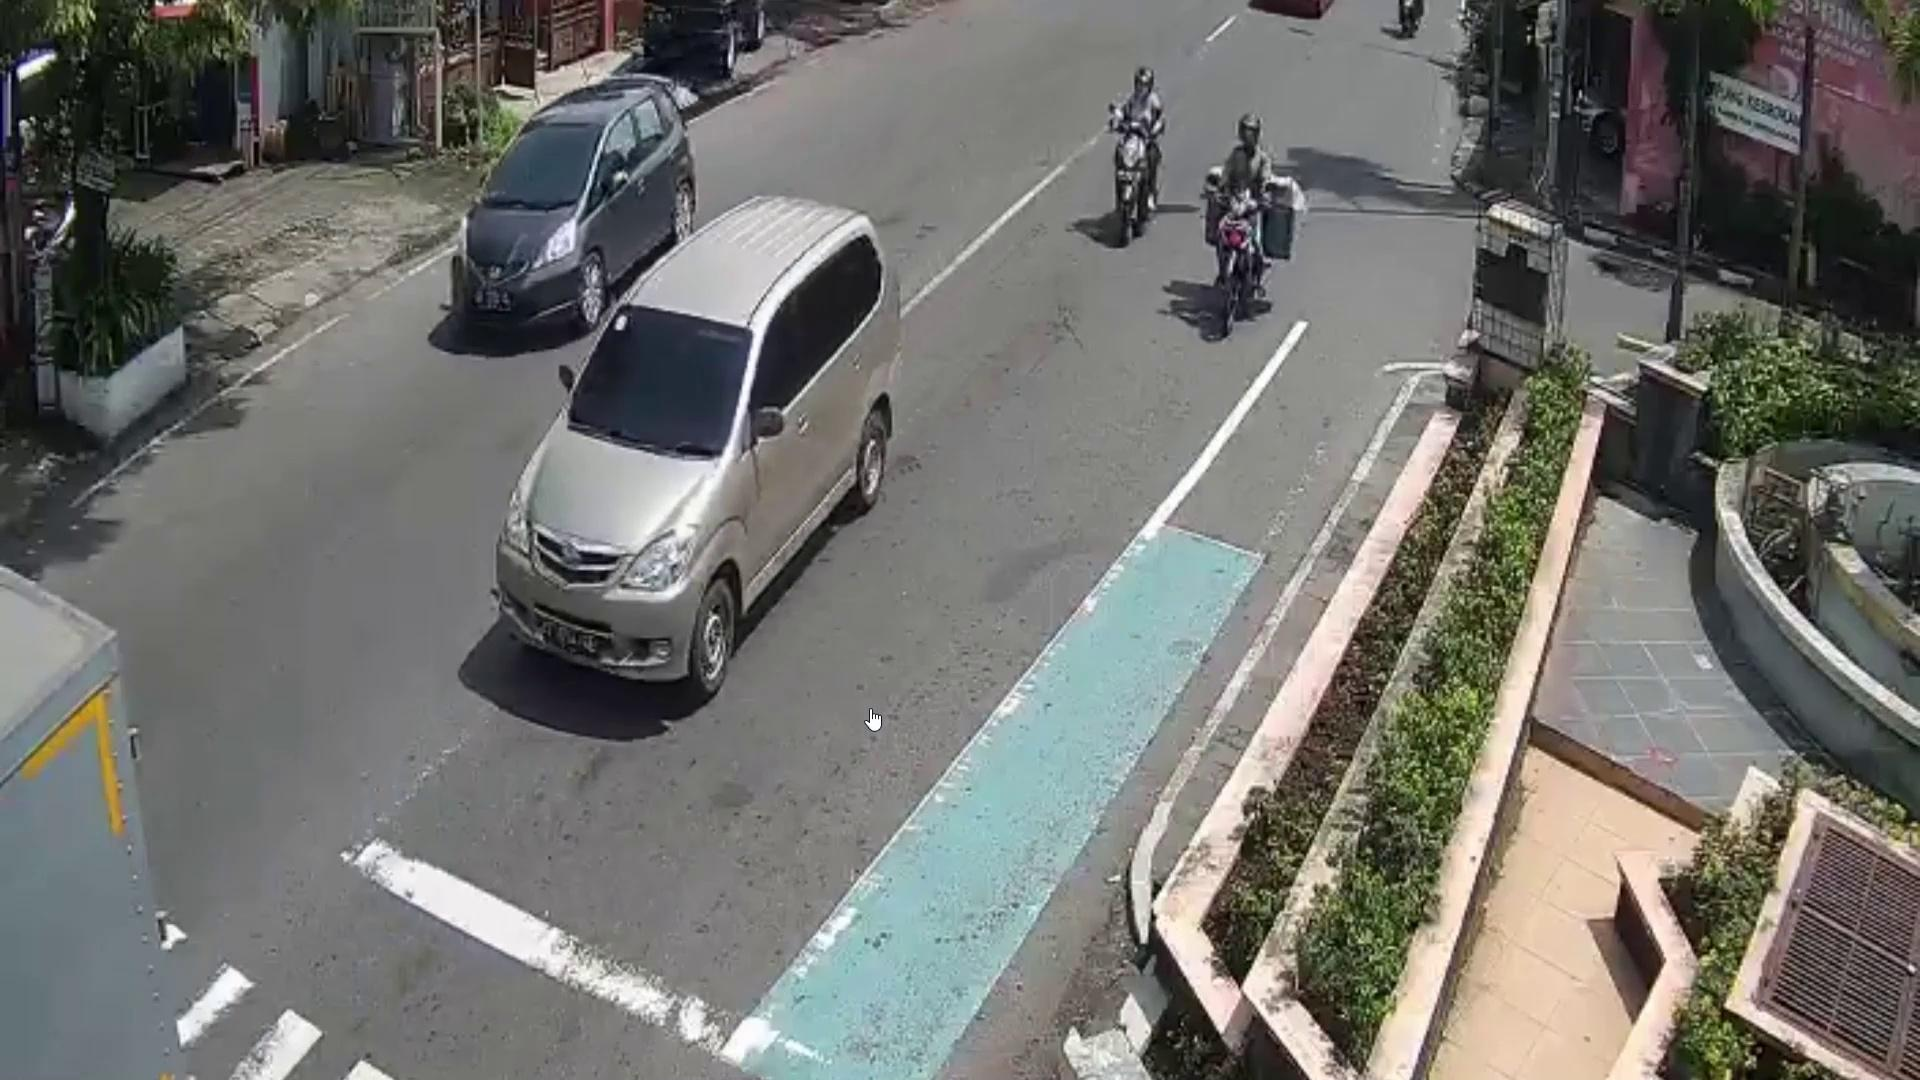car: (497, 191, 903, 699), (454, 75, 695, 330)
motorbike: (1208, 187, 1265, 342), (1114, 116, 1162, 260)
